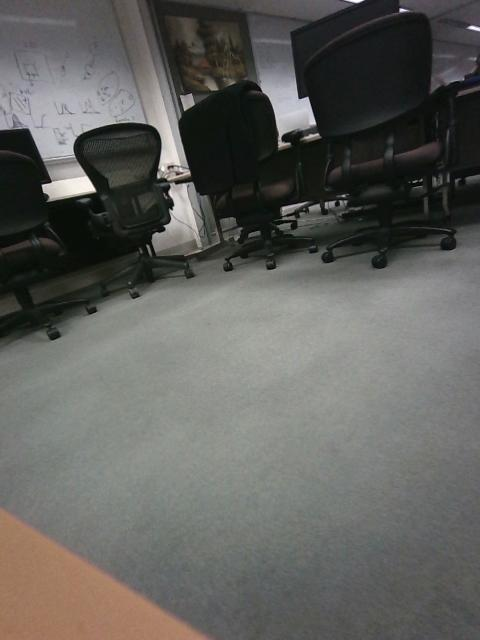block: (321, 419, 410, 551)
